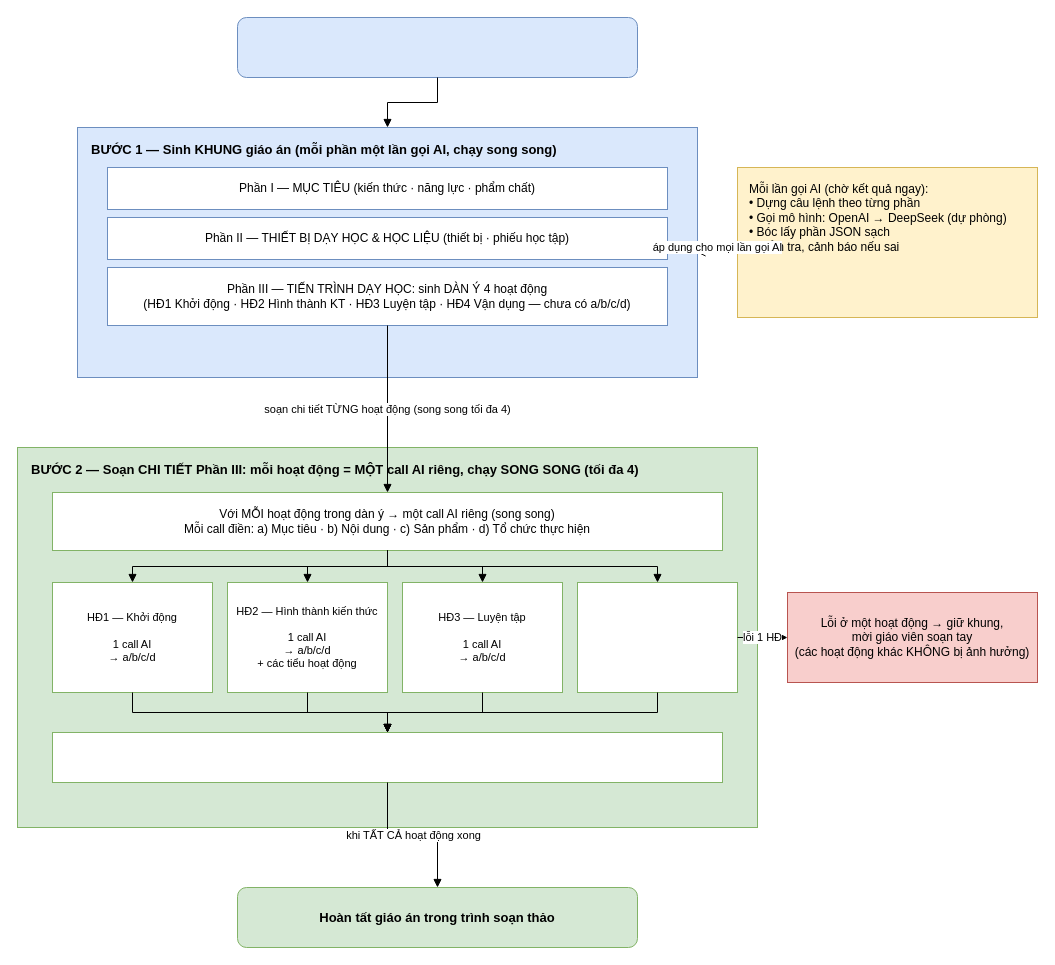
This 1055x965 diagram has some shape labels left out. Here are the shapes that lost their labels. From the top down, the centre of each, then its label:
At point 437,47: "Đã chọn Sách → Chương → Bài học + chủ đề · môn học · gợi ý phong cách".
At point 657,637: "HĐ4 — Vận dụng 1 call AI → a/b/c/d".
At point 387,757: "Xong hoạt động nào → điền NGAY vào giáo án (hiện dần trong trình soạn thảo)".
